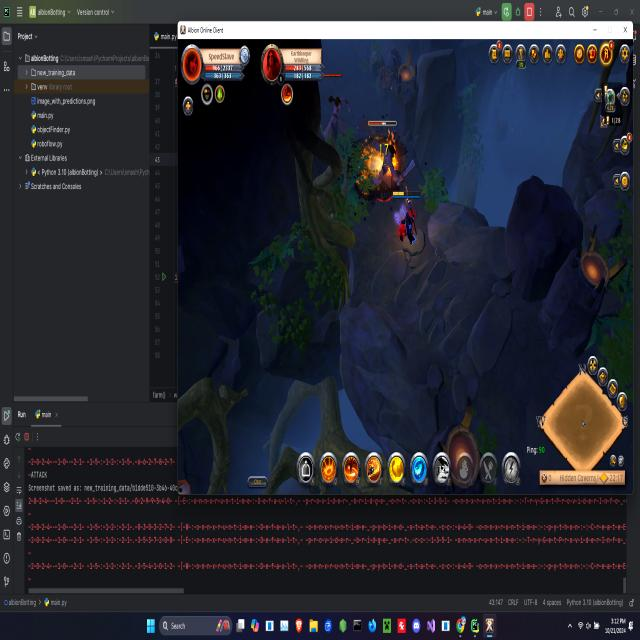ore: (364, 116, 412, 206), (312, 66, 353, 148)
red: (388, 184, 424, 252)
